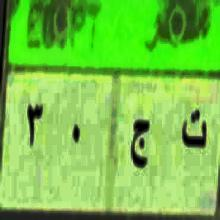0: (65, 107, 86, 159)
3: (25, 96, 47, 154)
jeem: (131, 110, 151, 181)
taa: (182, 107, 210, 158)
